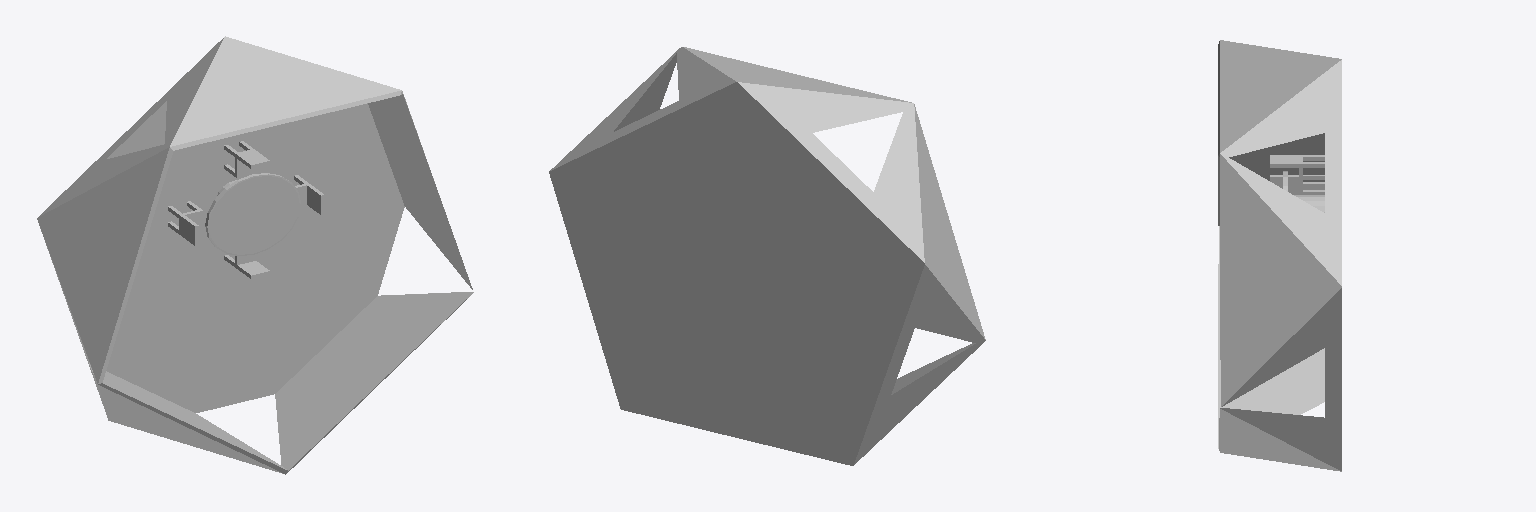
Rendered from house.obj.
3 views of the same model, side by side, from view 1: azimuth 30°, elevation 25°; view 2: azimuth 150°, elevation 25°; view 3: azimuth 270°, elevation 25° (orthographic).
Parts seen in each view (by area): view 1: obj_0; view 2: obj_0; view 3: obj_0.
Boxes of the visible parts, <box> form: obj_0: <box>37,36,473,474</box>; obj_0: <box>549,47,985,465</box>; obj_0: <box>1218,40,1341,471</box>.
Bounding box in the file's own units: 200 × 200 × 57.1.